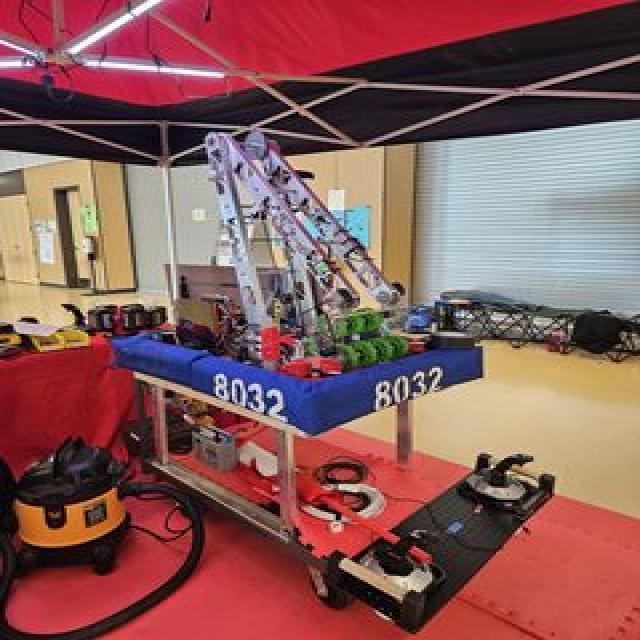robot: (108, 123, 489, 431)
